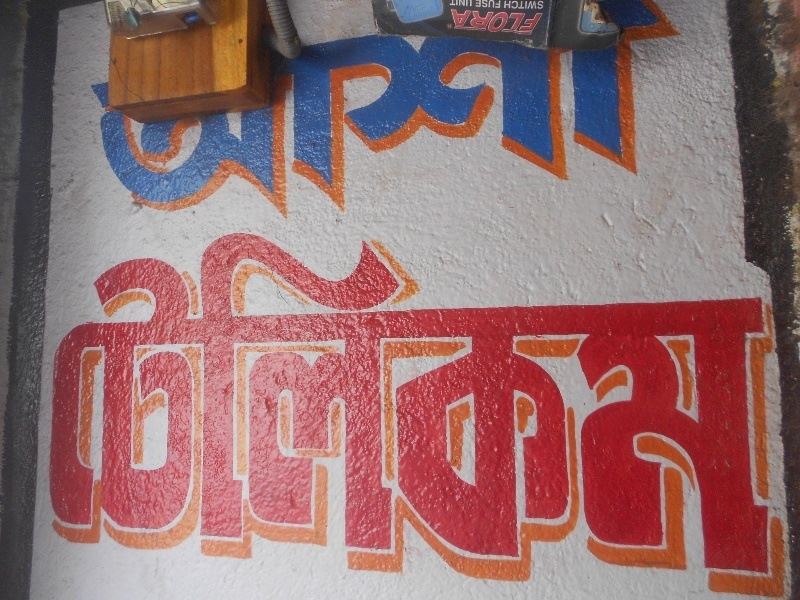text: (65, 202, 80, 597), (81, 202, 96, 597), (97, 202, 112, 597), (113, 202, 128, 597), (129, 202, 144, 597), (145, 202, 160, 597), (161, 202, 176, 597), (177, 202, 192, 597), (193, 202, 208, 597), (209, 202, 224, 597), (225, 202, 240, 597), (241, 202, 256, 597), (257, 202, 272, 597), (273, 202, 288, 597), (289, 202, 304, 597), (305, 202, 320, 597), (321, 202, 336, 597), (337, 202, 352, 597), (353, 202, 368, 597), (369, 202, 384, 597), (385, 202, 400, 597), (401, 202, 416, 597), (417, 202, 432, 597), (433, 202, 448, 597), (449, 202, 464, 597), (465, 202, 480, 597), (481, 202, 496, 597), (497, 202, 512, 597), (513, 202, 528, 597), (529, 202, 544, 597), (545, 202, 560, 597), (561, 202, 576, 597), (577, 202, 592, 597), (593, 202, 608, 597), (609, 202, 624, 597), (625, 202, 640, 597), (641, 202, 656, 597), (657, 202, 672, 597), (673, 202, 688, 597), (689, 202, 704, 597), (705, 202, 720, 597), (721, 202, 736, 597), (737, 202, 752, 597), (753, 202, 768, 597), (769, 202, 784, 597), (97, 1, 112, 229), (113, 1, 128, 229), (129, 1, 144, 229), (145, 1, 160, 229), (161, 1, 176, 229), (177, 1, 192, 229), (193, 1, 208, 229), (209, 1, 224, 229), (225, 1, 240, 229), (241, 1, 256, 229), (257, 1, 272, 229), (273, 1, 288, 229), (289, 1, 304, 229), (305, 1, 320, 229), (321, 1, 336, 229), (337, 1, 352, 229), (353, 1, 368, 229), (369, 1, 384, 229), (385, 1, 400, 229), (401, 1, 416, 229), (417, 1, 432, 229), (433, 1, 448, 229), (449, 1, 464, 229), (465, 1, 480, 229), (481, 1, 496, 229), (497, 1, 512, 229), (513, 1, 528, 229), (529, 1, 544, 229), (545, 1, 560, 229), (561, 1, 576, 229), (577, 1, 592, 229), (593, 1, 608, 229), (609, 1, 624, 229), (625, 1, 640, 229), (641, 1, 656, 229), (657, 1, 672, 229), (59, 202, 64, 597), (673, 1, 681, 229), (785, 202, 788, 597), (91, 1, 96, 229), (465, 9, 480, 37), (481, 9, 496, 37), (497, 9, 512, 37), (513, 9, 528, 37), (529, 9, 544, 37), (451, 9, 464, 37), (529, 1, 545, 9), (513, 1, 528, 9), (481, 1, 496, 8), (450, 1, 464, 6), (545, 9, 547, 37), (506, 1, 512, 9), (465, 1, 474, 6), (497, 1, 502, 8), (476, 1, 480, 8), (449, 23, 453, 29), (447, 23, 448, 29)
